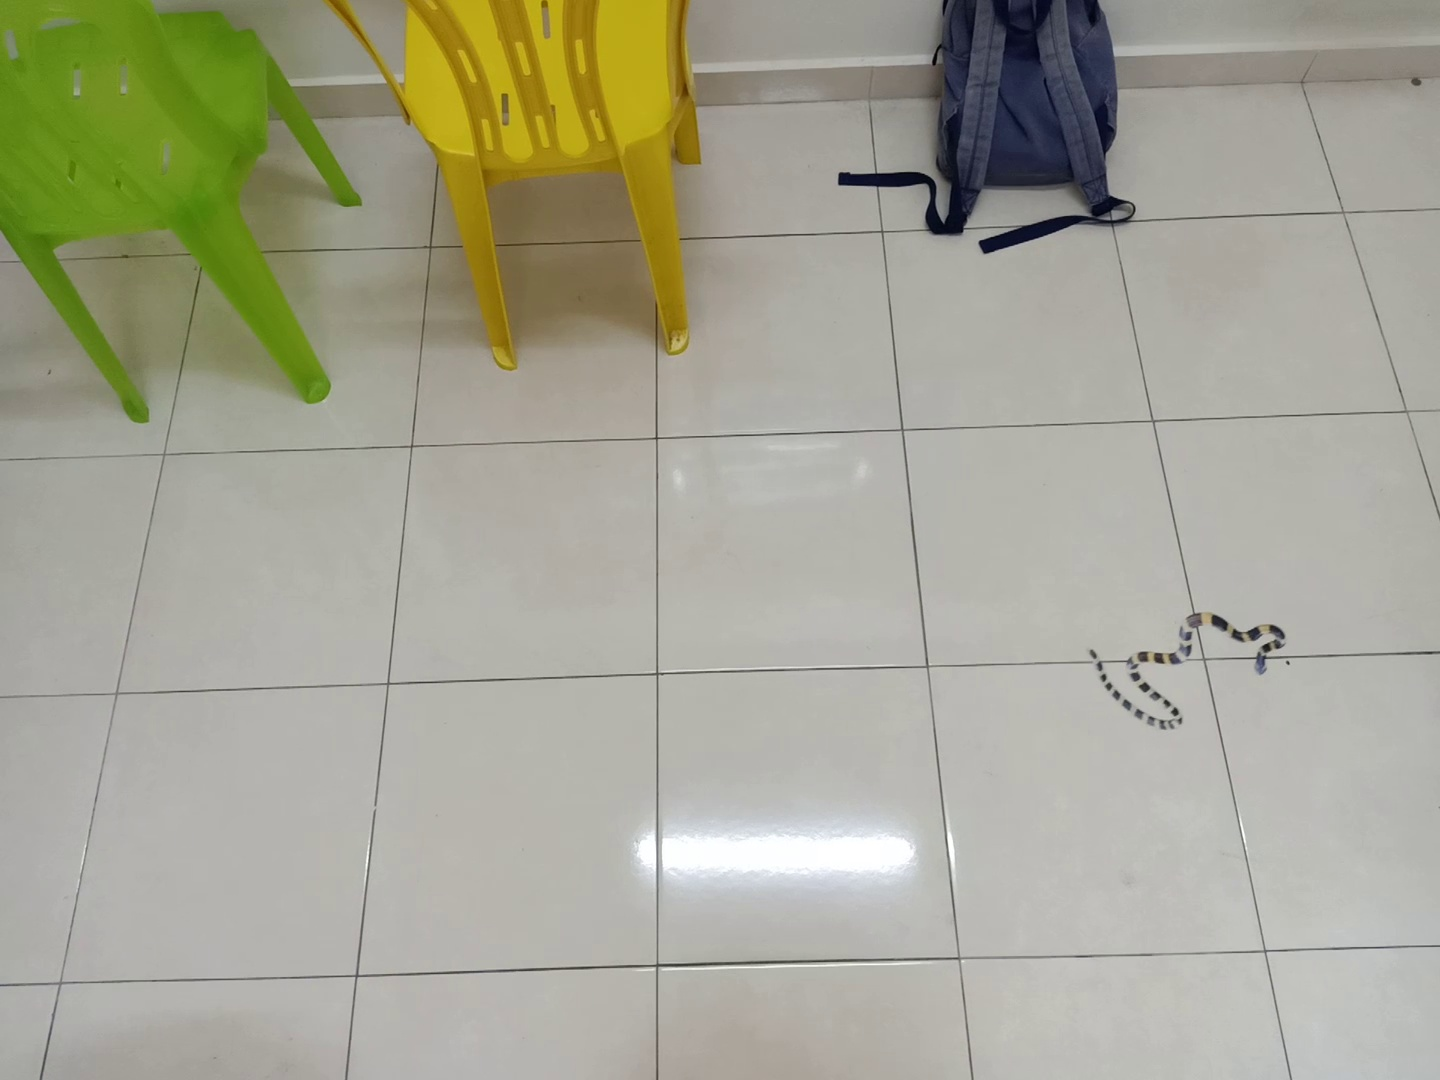snake: (1085, 608, 1293, 733)
